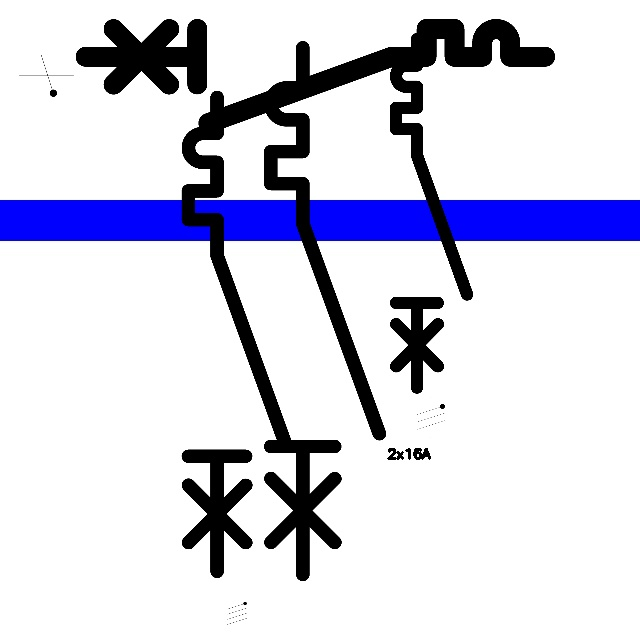interruptor_termomagnetico: (257, 34, 392, 588), (176, 85, 298, 583), (73, 17, 556, 135), (387, 30, 476, 396)
